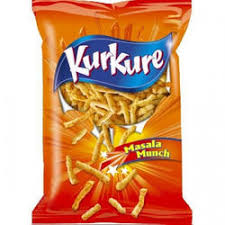kurkure: (59, 38, 170, 81)
plastic: (36, 2, 180, 225)
